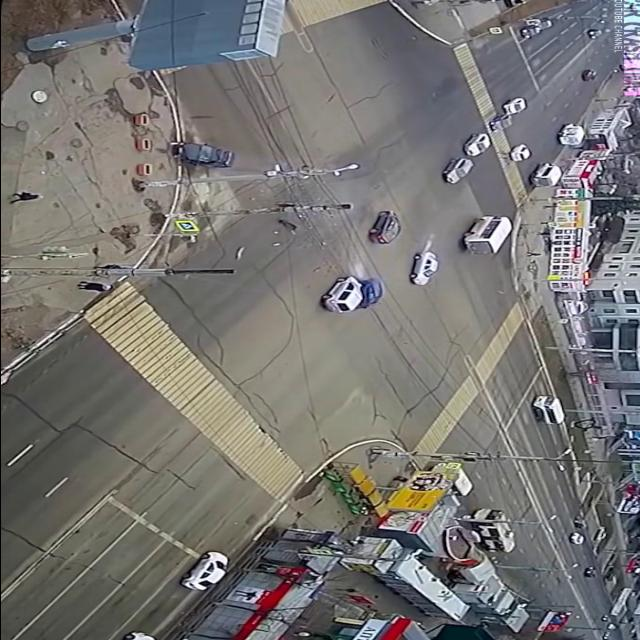accident: (151, 133, 269, 174), (312, 271, 388, 317)
non_accident: (432, 93, 540, 189)
